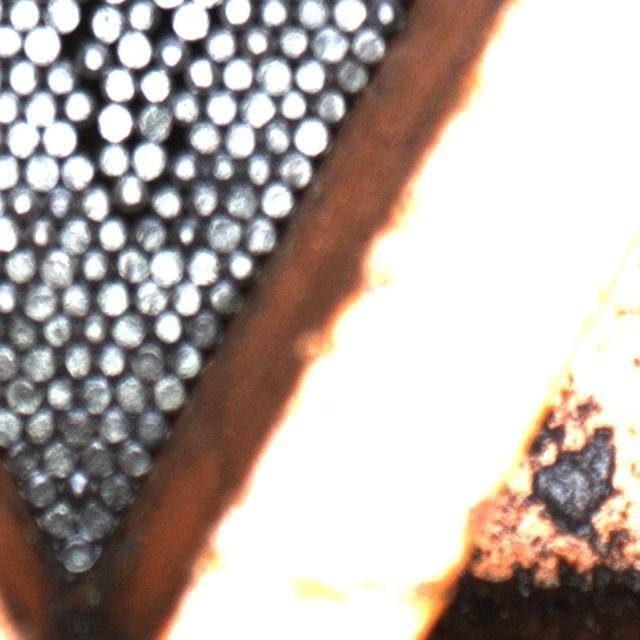tool: (4, 375, 41, 412), (23, 24, 60, 61), (312, 23, 348, 60), (129, 342, 166, 378), (5, 56, 42, 92), (21, 281, 57, 318), (242, 215, 278, 252), (133, 277, 169, 313), (257, 56, 293, 92), (114, 246, 150, 282), (24, 152, 60, 188), (206, 214, 242, 250), (59, 408, 95, 444), (132, 214, 168, 250), (79, 437, 115, 473), (173, 1, 208, 38), (41, 118, 76, 154), (60, 152, 95, 188), (59, 280, 94, 316), (39, 247, 74, 283), (113, 373, 148, 409), (77, 374, 112, 410), (219, 55, 255, 90), (136, 102, 171, 138), (240, 89, 276, 124), (95, 279, 130, 315), (182, 53, 218, 88), (96, 406, 131, 442), (260, 180, 295, 216), (5, 312, 40, 348), (58, 217, 94, 252), (222, 120, 257, 156), (20, 344, 56, 379), (100, 64, 135, 100), (149, 248, 184, 284), (292, 118, 328, 153), (76, 36, 111, 72), (333, 56, 369, 91), (275, 22, 310, 58), (23, 406, 58, 442), (97, 102, 131, 139), (40, 311, 75, 346), (203, 25, 238, 60), (113, 170, 148, 205), (112, 311, 147, 346), (131, 142, 166, 177), (186, 180, 221, 215), (5, 119, 40, 154), (77, 245, 112, 280), (42, 374, 77, 409), (76, 308, 111, 343), (150, 307, 185, 342), (5, 179, 40, 214), (23, 90, 58, 125), (93, 341, 128, 376), (117, 438, 152, 473), (43, 59, 78, 94), (4, 246, 38, 282), (186, 247, 220, 283), (90, 4, 124, 40), (116, 30, 150, 66), (137, 65, 171, 101), (204, 87, 238, 123), (168, 212, 204, 246), (224, 181, 258, 217), (60, 340, 94, 376), (294, 57, 328, 92), (205, 276, 240, 310), (77, 185, 112, 219), (240, 21, 274, 56), (205, 147, 240, 181), (242, 149, 276, 184), (154, 32, 189, 66), (169, 148, 203, 183), (94, 215, 128, 250), (352, 26, 386, 61), (135, 407, 169, 442), (168, 342, 202, 377), (42, 182, 76, 216), (151, 374, 185, 408), (277, 150, 311, 184), (60, 87, 94, 121), (148, 183, 182, 217), (24, 213, 58, 247), (187, 310, 221, 344), (96, 141, 130, 175), (170, 279, 203, 314), (223, 246, 256, 281), (312, 88, 347, 121), (260, 119, 294, 152), (42, 440, 75, 474), (276, 86, 309, 120), (170, 89, 203, 123), (43, 0, 80, 30), (188, 119, 221, 152), (6, 0, 42, 30), (124, 0, 158, 31), (99, 472, 131, 504), (294, 0, 330, 28), (62, 465, 94, 496), (80, 502, 112, 533), (332, 0, 366, 29), (12, 447, 43, 478), (26, 474, 57, 504), (40, 503, 71, 533), (368, 0, 402, 27), (257, 0, 292, 26), (218, 0, 254, 25), (0, 22, 23, 58), (0, 88, 23, 124), (0, 152, 22, 187), (0, 277, 22, 312), (0, 213, 20, 250), (0, 407, 21, 442), (0, 342, 19, 378)
